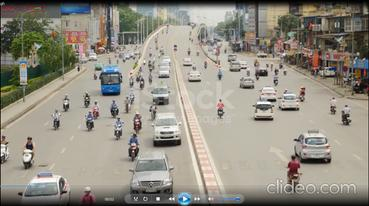bus: (96, 62, 126, 100)
car: (128, 145, 183, 195), (16, 168, 72, 205), (289, 126, 333, 166), (146, 110, 188, 148), (250, 98, 278, 123), (150, 80, 172, 108), (278, 90, 305, 111), (257, 83, 280, 104), (236, 75, 256, 91)
motorcycle: (282, 164, 308, 197), (17, 143, 36, 171), (0, 138, 14, 165), (110, 121, 128, 142), (126, 140, 140, 163), (50, 113, 63, 132), (340, 110, 354, 127), (83, 114, 96, 132), (328, 98, 339, 117), (216, 103, 226, 120), (60, 97, 72, 111), (90, 104, 101, 119), (109, 105, 119, 120), (122, 100, 132, 114), (133, 117, 141, 132), (82, 95, 90, 108)
